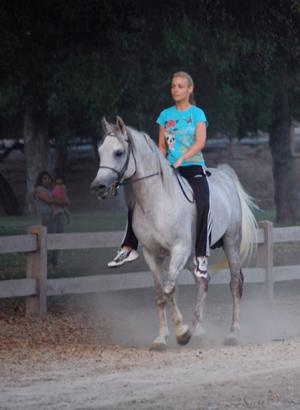person: (105, 70, 210, 284)
